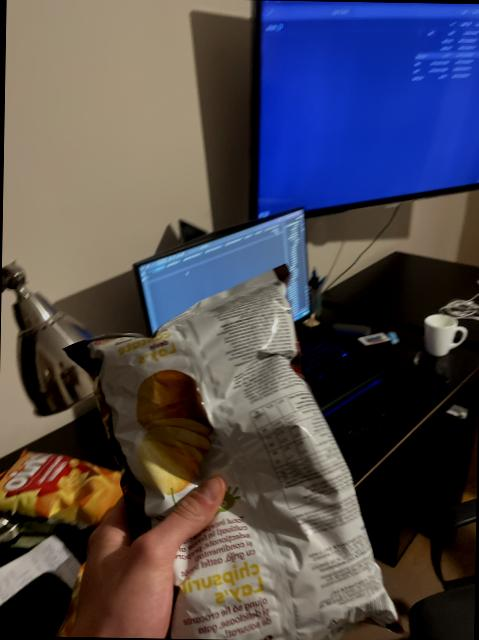Chio Cascaval 125g: (0, 447, 119, 530)
Lays Beef Grilled Ribs 125g: (83, 273, 402, 640)
